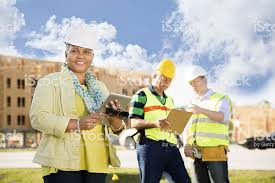helmet: (66, 29, 96, 49), (185, 64, 204, 80), (160, 62, 176, 78)
vest: (191, 96, 228, 148), (145, 91, 177, 143)
